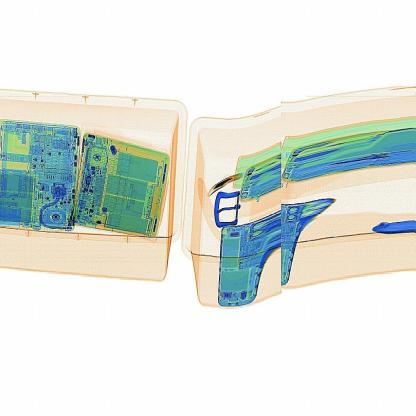wrench: (207, 164, 256, 198)
